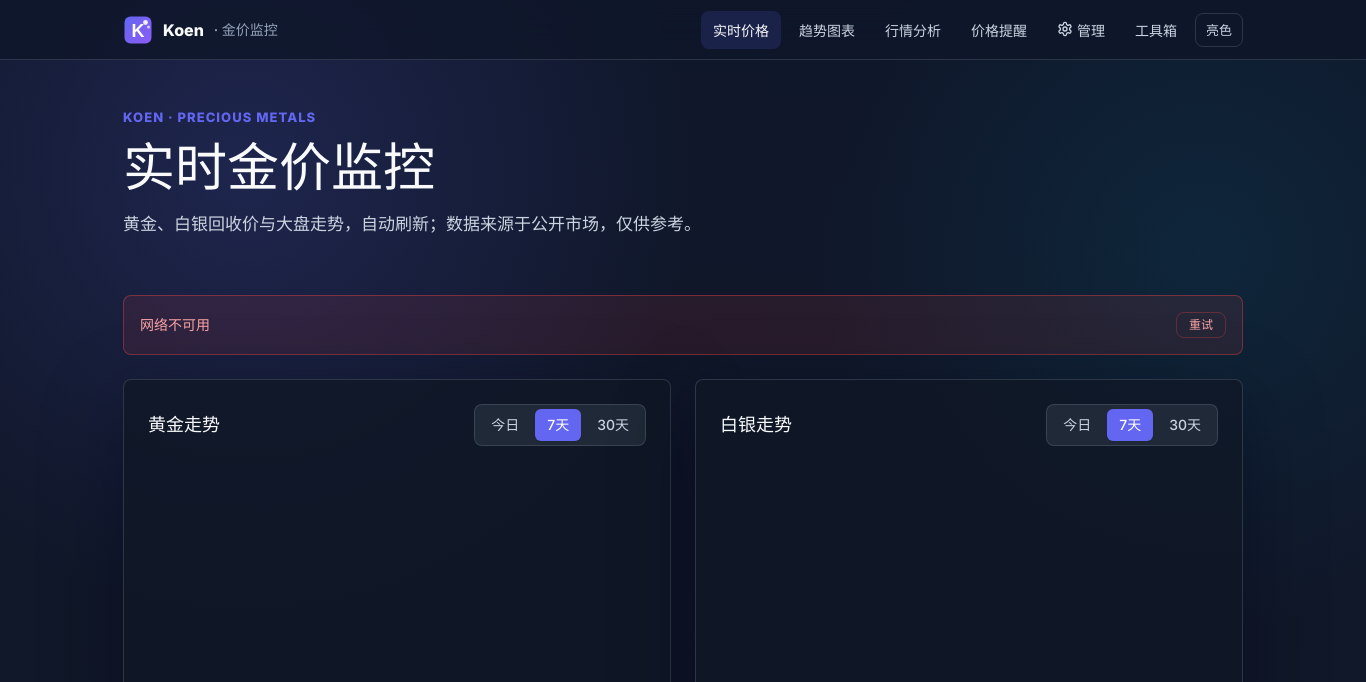
Home › shows error banner and retries on button click
Check: the text "网络不可用" is shown, box [140,314,210,334]
Click the button "重试": (1201, 324) [1176,312,1226,338]
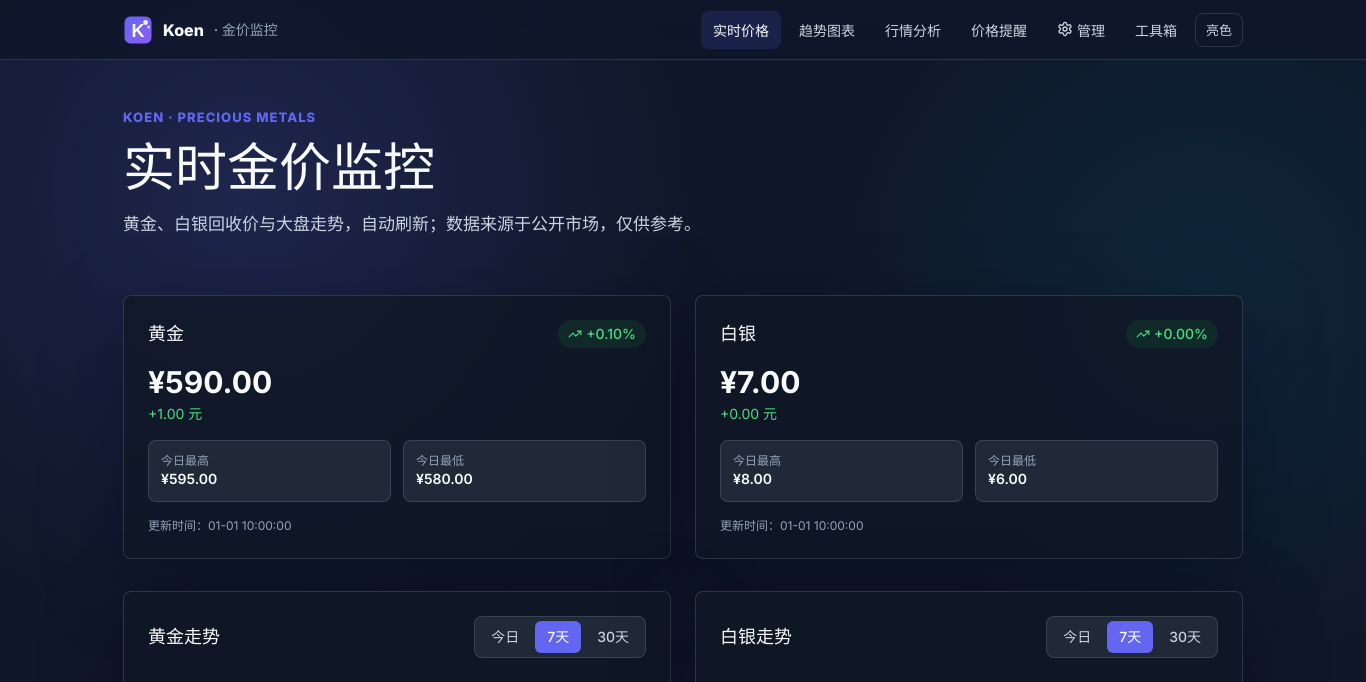
Check: the heading "黄金" is shown, box [148,320,184,348]
